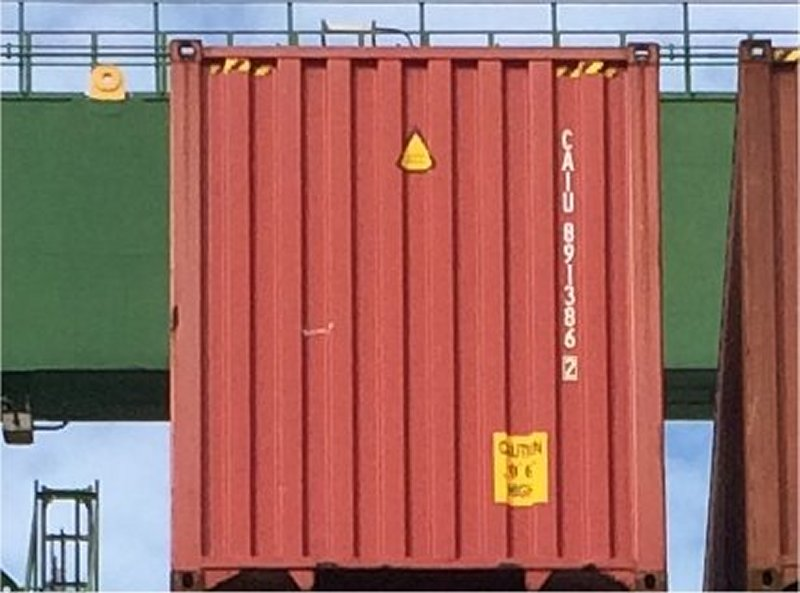container_no_door: (173, 41, 666, 591)
